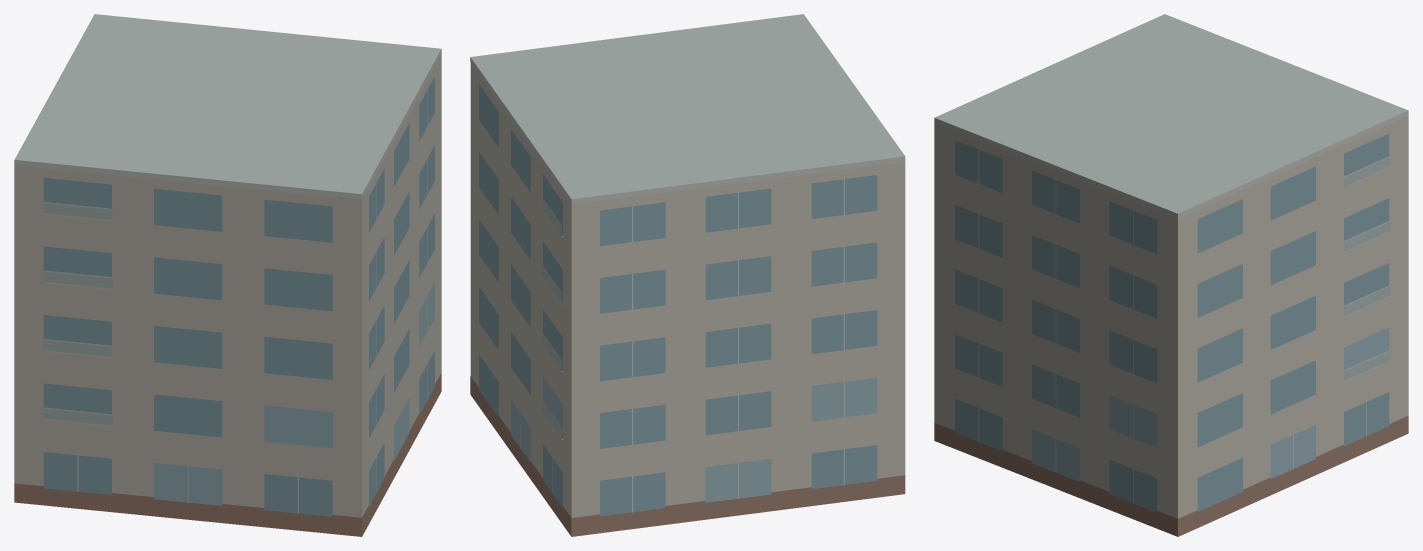
The model's file is survey-upis-32999975.glb.
3 views of the same model, side by side, from view 1: azimuth 30°, elevation 25°; view 2: azimuth 150°, elevation 25°; view 3: azimuth 270°, elevation 25° (orthographic). The views are drawn at different scales.
Visible parts, largest first — view 1: survey-upis-32999975.tmp; view 2: survey-upis-32999975.tmp; view 3: survey-upis-32999975.tmp.
Boxes of the visible parts, x1,y1,x2,y2 form: survey-upis-32999975.tmp: (14, 14, 441, 536); survey-upis-32999975.tmp: (470, 14, 905, 536); survey-upis-32999975.tmp: (934, 14, 1408, 536).
Bounding box in the file's own units: 20.23 × 15.25 × 20.29.
